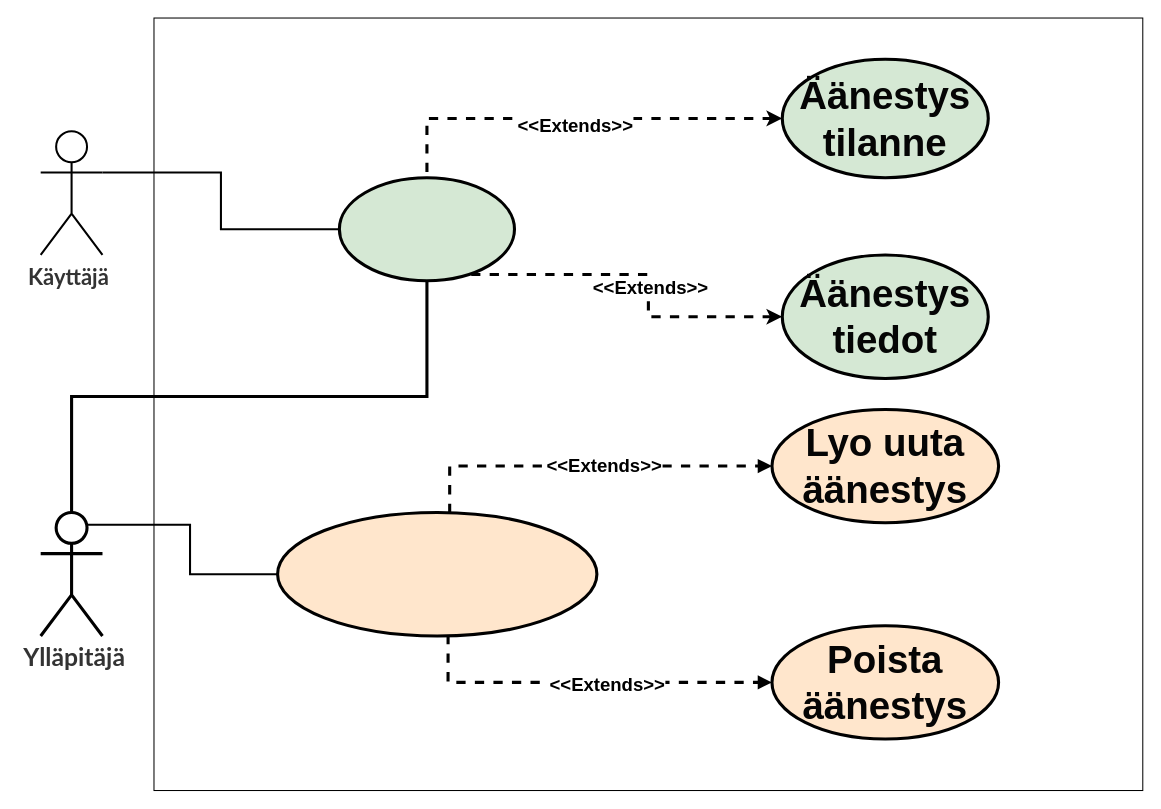
Image size: 1161x809. Some labels were removed from this diagram. Each missing label, with the centre of its shape:
"Kotisivu" goes at (x=426, y=229).
"Ylläpitäjän sivu" goes at (x=437, y=573).
